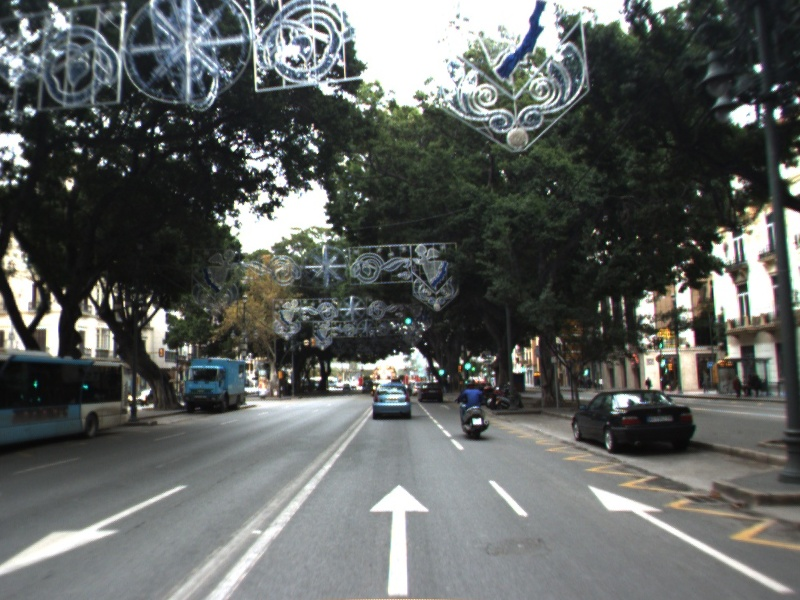STRAIGHT: (585, 482, 798, 596), (366, 480, 433, 597)
